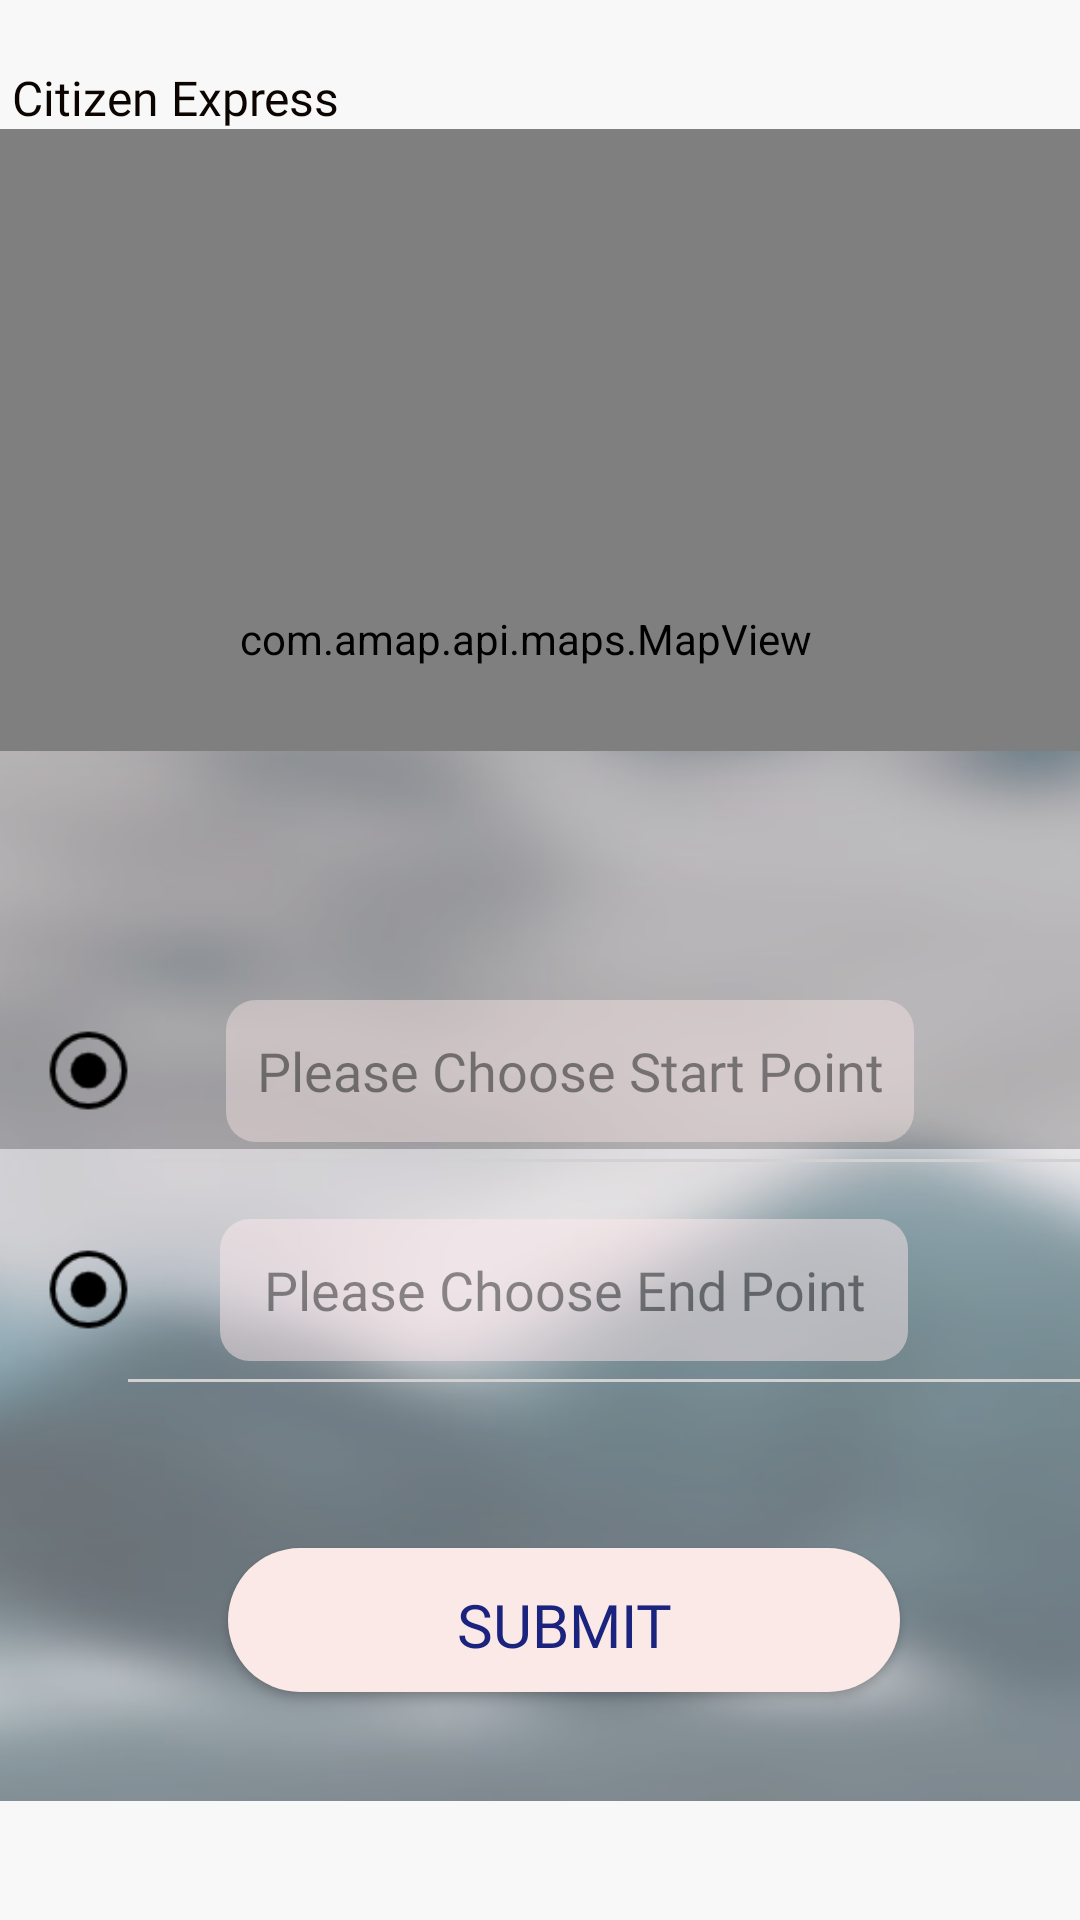

Where to tap for icons on this 1080 x 1920 app screen, as (x=x, y=y):
radio: (x=88, y=1070), (x=88, y=1289)
